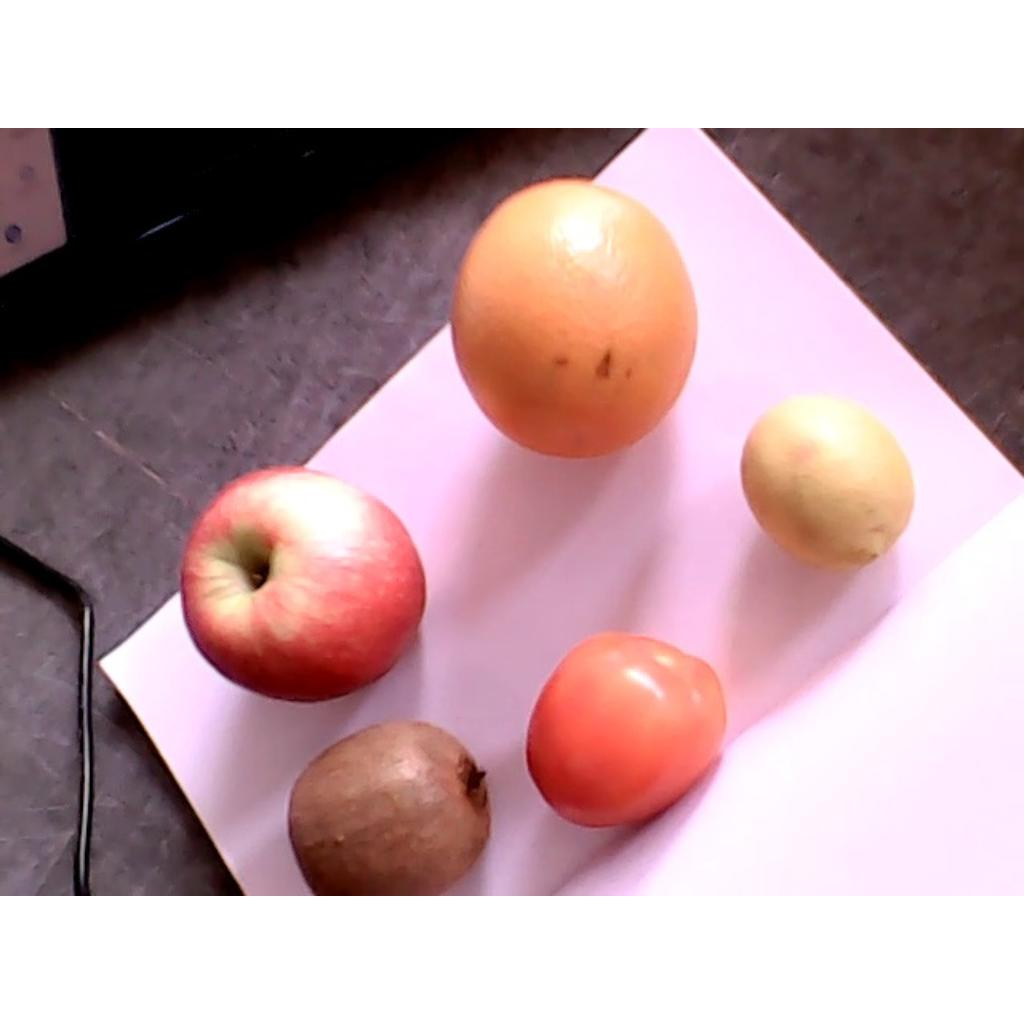apple: (181, 467, 426, 704)
kiwi: (290, 722, 490, 894)
lemon: (740, 396, 912, 569)
orange: (453, 180, 698, 460)
tomato: (526, 634, 726, 825)
